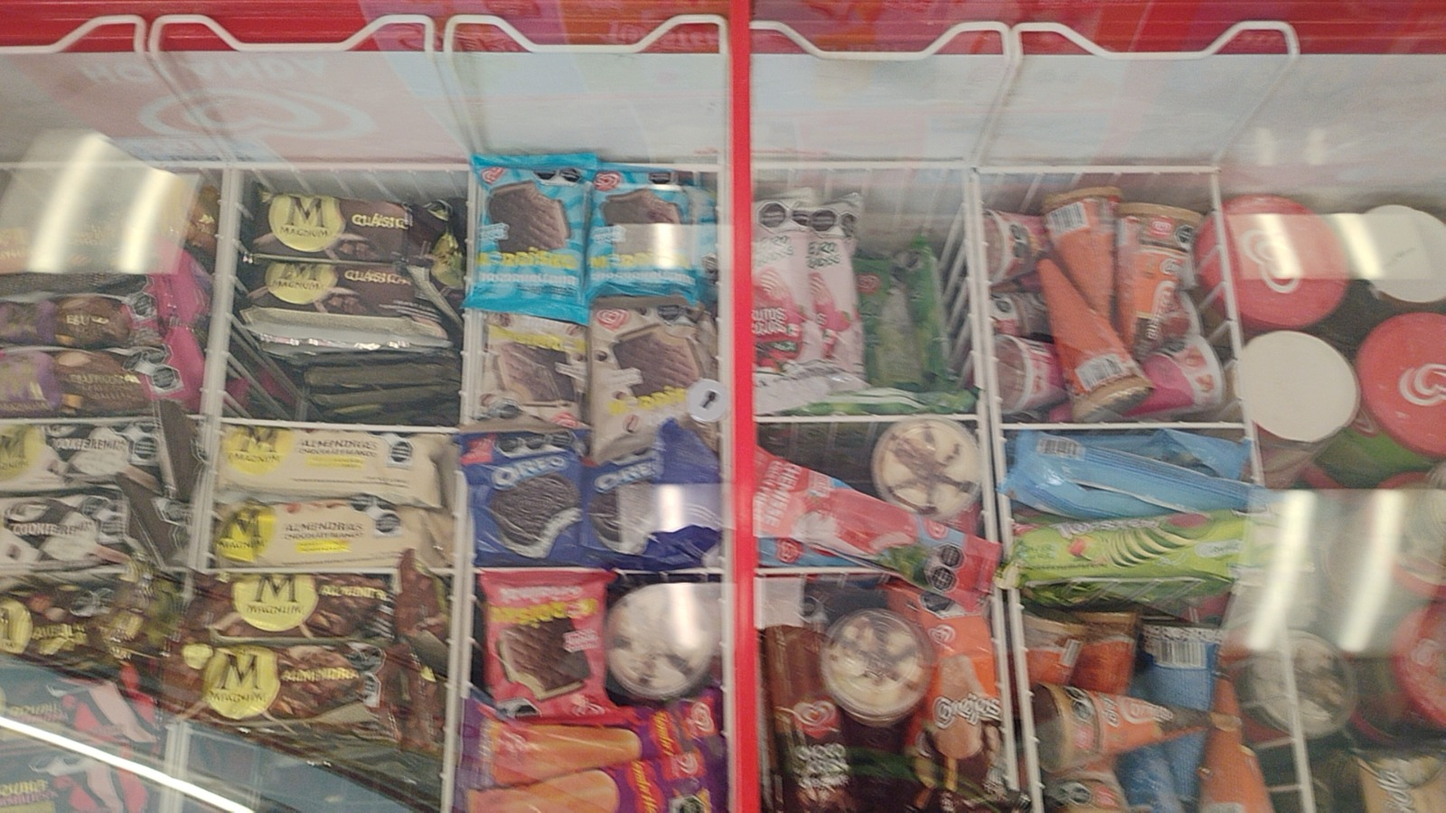rejilla: (974, 175, 1005, 478), (442, 486, 465, 811), (213, 172, 238, 450), (1013, 593, 1040, 812), (207, 174, 228, 441), (1284, 628, 1314, 812), (1213, 177, 1242, 354), (964, 174, 982, 385), (997, 594, 1015, 785), (222, 419, 458, 432), (980, 402, 996, 540), (188, 476, 207, 564), (463, 527, 472, 697), (201, 463, 214, 565), (174, 726, 189, 812), (161, 730, 176, 811), (753, 164, 966, 168), (466, 177, 474, 280), (1001, 425, 1248, 428), (1249, 423, 1261, 484), (981, 168, 1219, 171), (234, 165, 468, 168), (464, 314, 471, 412), (472, 316, 479, 394), (644, 164, 723, 170), (2, 163, 159, 166), (238, 569, 394, 572), (758, 417, 899, 420), (1003, 499, 1011, 547), (159, 162, 229, 167), (758, 569, 874, 572), (719, 175, 722, 258), (954, 416, 978, 419)
